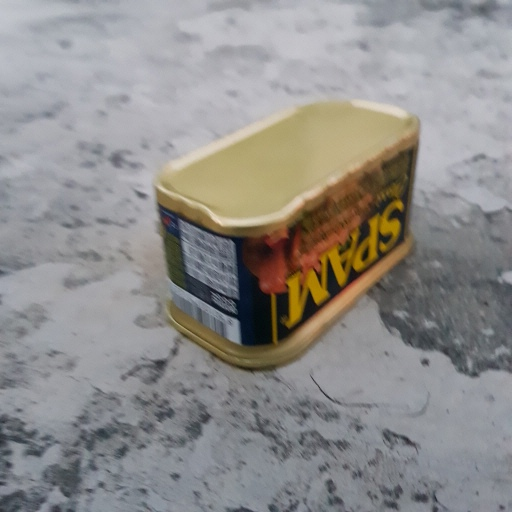Metal_2: (152, 92, 423, 373)
